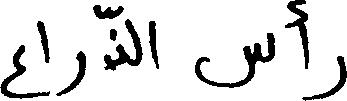X: (195, 28, 273, 92), (308, 37, 346, 100), (287, 0, 306, 100), (0, 40, 24, 100), (106, 1, 125, 75), (59, 46, 83, 100), (38, 16, 47, 100), (127, 14, 140, 70), (151, 16, 157, 73)
